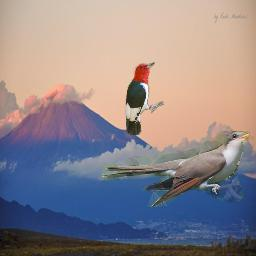Cuckoo: (102, 131, 250, 207)
Woodpecker: (125, 62, 164, 135)
